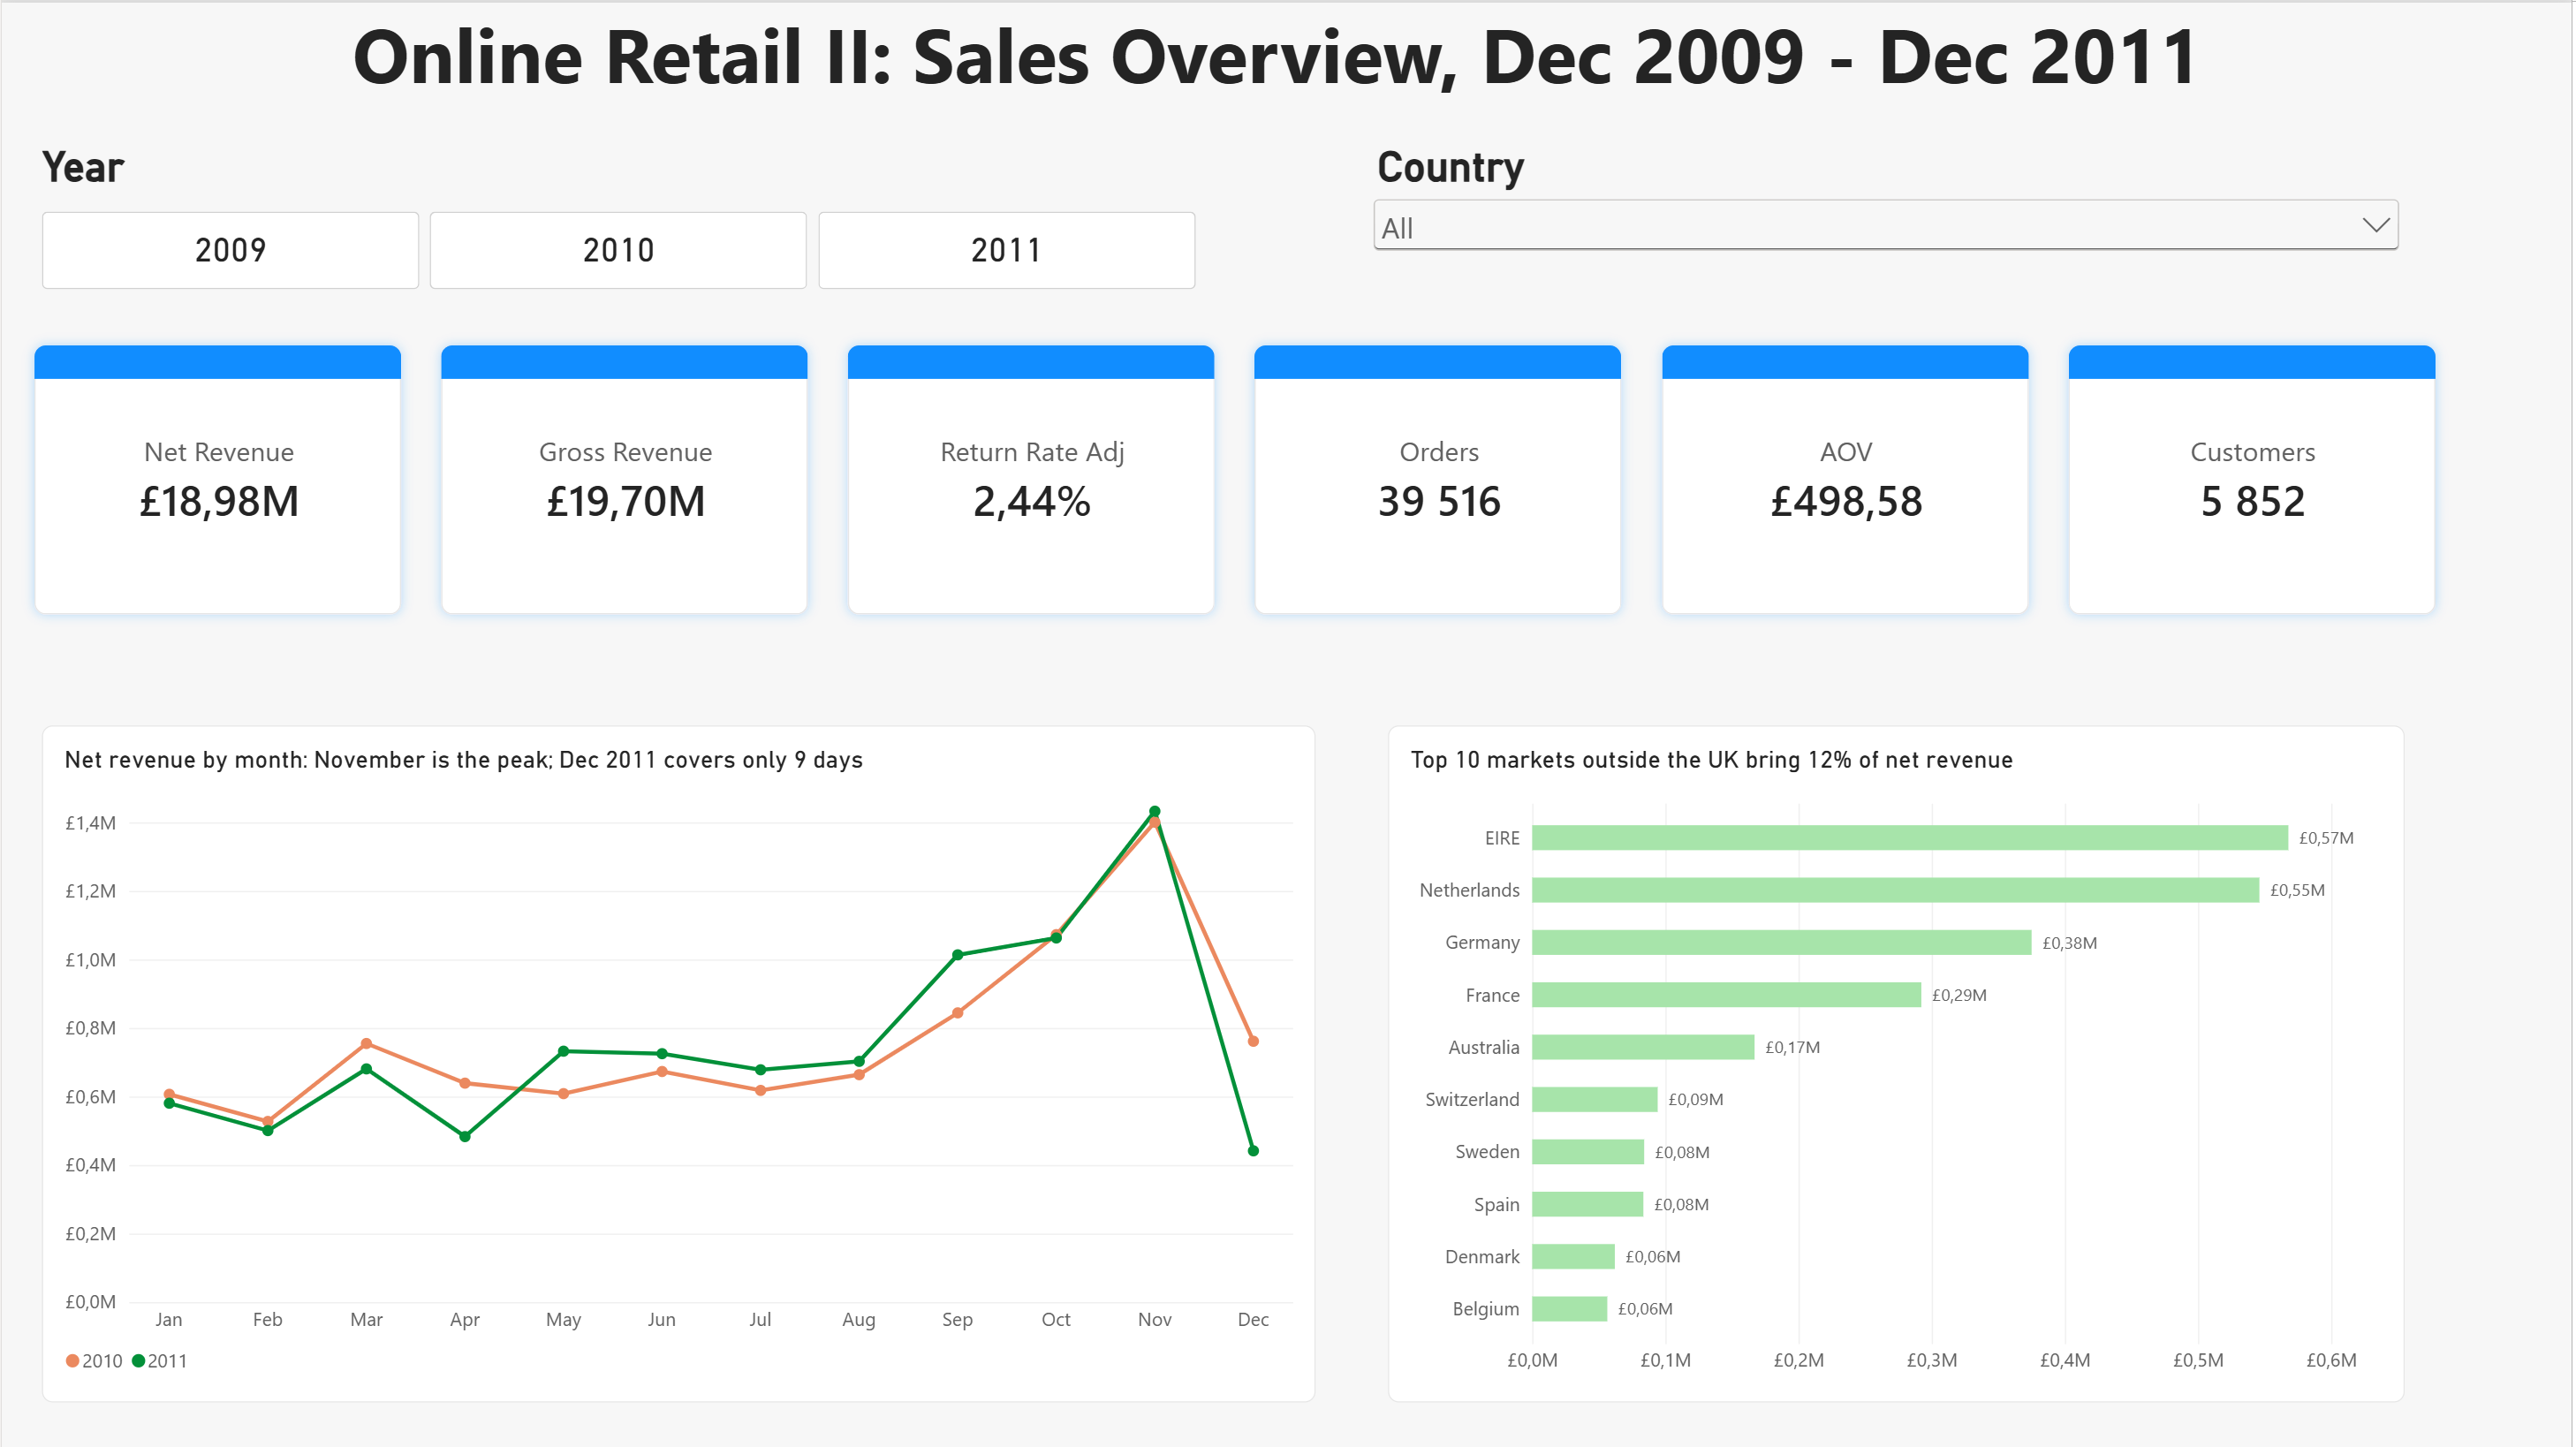

The dashboard page shown, as its layout file describes it:
{"tool":"powerbi","page":{"name":"Overview","canvas":[1920,1080],"ordinal":0},"visuals":[{"type":"textbox","box":[223.5,0,1458.7,164.6],"z":0},{"type":"advancedSlicerVisual","title":"Year","fields":{"Values":["dim_date.SalesYear"]},"box":[30,104,862,110],"z":1000},{"type":"slicer","fields":{"Values":["dim_customer.Country"]},"box":[1020,104,776,186],"z":2000},{"type":"cardVisual","fields":{"Data":["_Measures.Net Revenue","_Measures.Gross Revenue","_Measures.Return Rate Adj","_Measures.Orders","_Measures.AOV","_Measures.Customers"]},"box":[13.3,245,1818.3,223.3],"z":3000},{"type":"lineChart","title":"Net revenue by month: November is the peak; Dec 2011 covers only 9 days","fields":{"Category":["dim_date.Month Name"],"Series":["dim_date.SalesYear"],"Y":["_Measures.Net Revenue"]},"box":[30,540,952,506],"z":4000},{"type":"clusteredBarChart","title":"Top 10 markets outside the UK bring 12% of net revenue","fields":{"Category":["dim_customer.Country"],"Y":["_Measures.Net Revenue"]},"box":[1036,540,760,506],"z":5000}]}

Visuals, with their boxes in screenshot pixels (x1, y1, x2, y2), scaled from the page's 1920x1080 canvas onto the 2576x1447 screenshot:
textbox: left=299, top=0, right=2257, bottom=221
"Year" advancedSlicerVisual: left=41, top=140, right=1197, bottom=287
slicer - dim_customer.Country: left=1368, top=140, right=2410, bottom=389
cardVisual - _Measures.Net Revenue x _Measures.Gross Revenue: left=18, top=329, right=2458, bottom=627
"Net revenue by month: November is the peak; Dec 2011 covers only 9 days" lineChart: left=41, top=723, right=1317, bottom=1401
"Top 10 markets outside the UK bring 12% of net revenue" clusteredBarChart: left=1390, top=723, right=2410, bottom=1401
